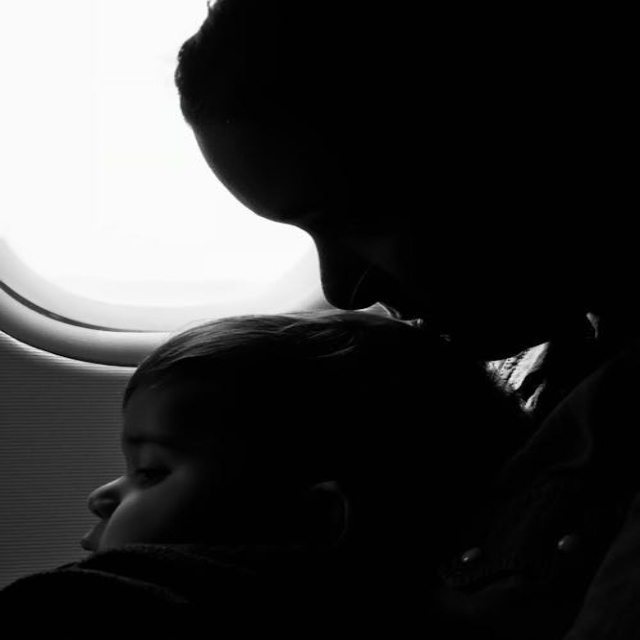Sin_gafas: (116, 426, 215, 489)
Sin_mascara: (73, 512, 111, 560)
